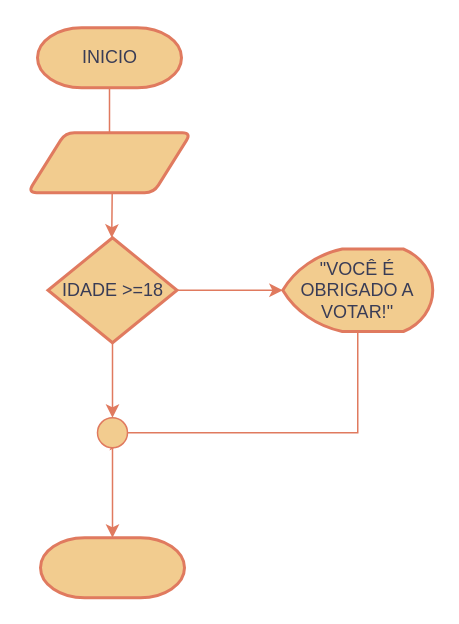
The diagram is 459 pixels wide and 624 high, and some of its shapes have lost their labels. Each missing label, with the centre of its shape:
"FIM" goes at [111,567].
"IDADE = 18" goes at [109,162].
